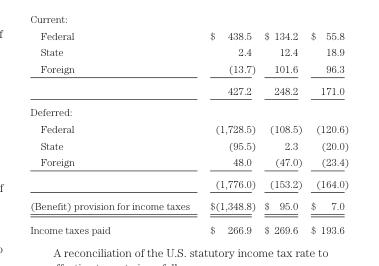table: (29, 29, 348, 234)
table column: (29, 29, 199, 234), (199, 29, 259, 234), (259, 29, 305, 234), (305, 29, 348, 234)
table column header: (29, 29, 348, 43)
table projected row header: (29, 100, 348, 119)
table row: (29, 194, 348, 217), (29, 172, 348, 194), (29, 79, 348, 100), (29, 59, 348, 79), (29, 100, 348, 119), (29, 153, 348, 172), (29, 119, 348, 136), (29, 136, 348, 153), (29, 217, 348, 234), (29, 43, 348, 59), (29, 29, 348, 43)
